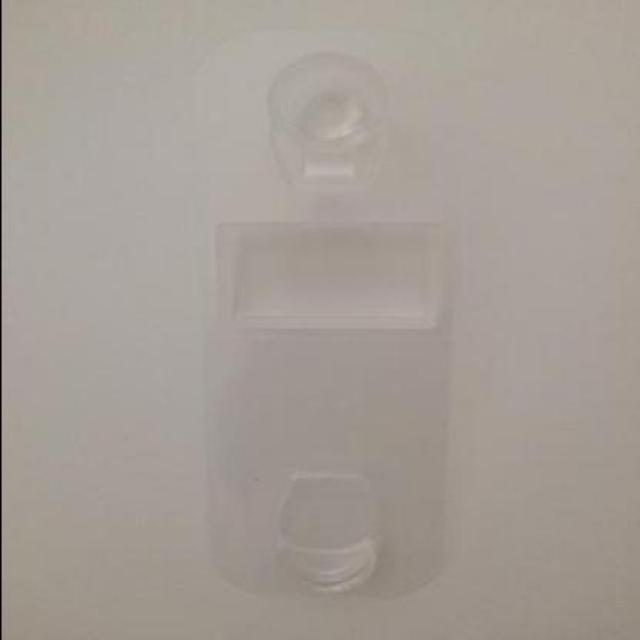PLASTIC: (185, 24, 463, 596)
